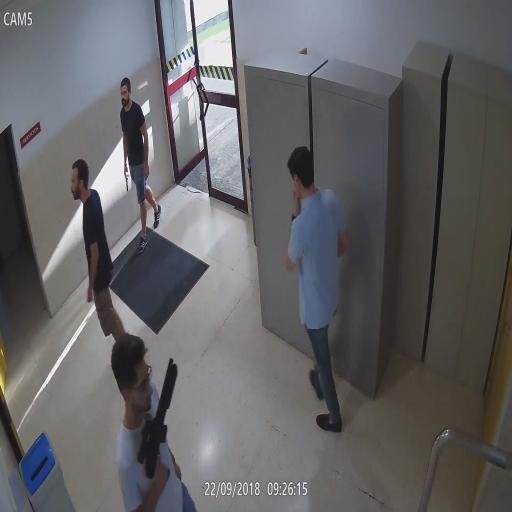Handgun: (123, 162, 131, 195)
